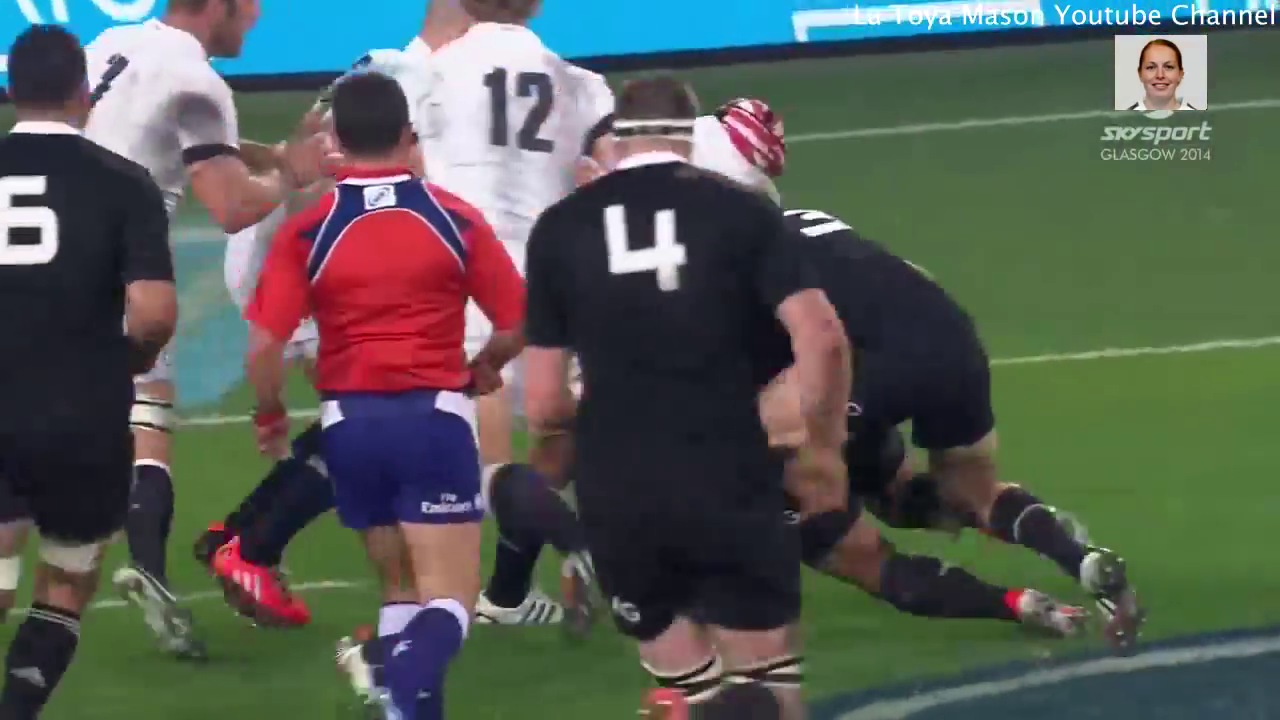player: (521, 68, 841, 720), (242, 73, 523, 720), (1, 17, 176, 720), (80, 1, 269, 232), (407, 1, 597, 192)
